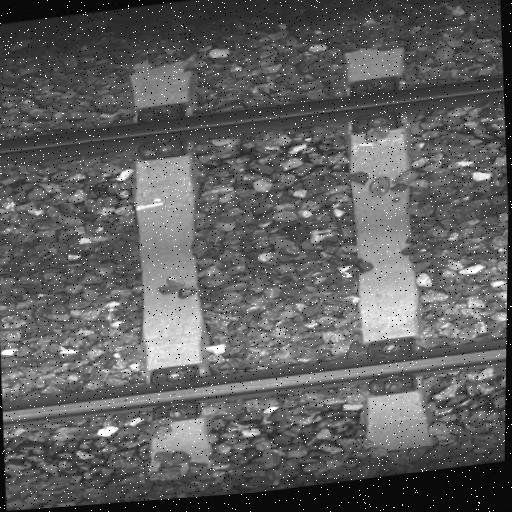clips: (135, 100, 195, 160), (149, 362, 206, 423), (363, 337, 417, 400), (351, 75, 404, 136)
sleepers: (119, 53, 217, 483), (337, 25, 432, 455)
